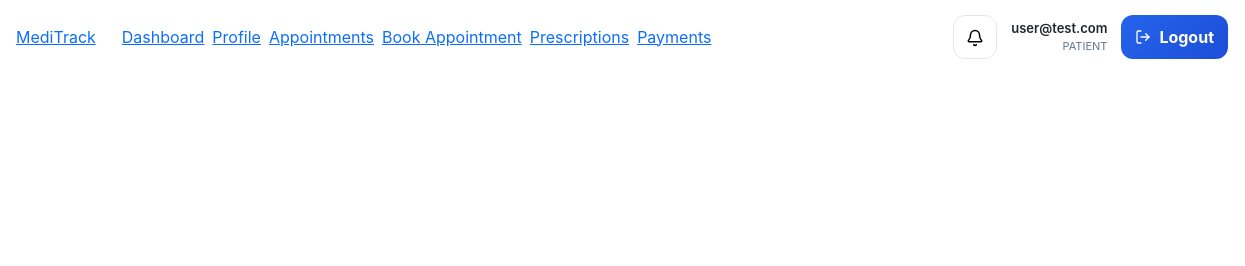
Navbar.jsx › should open notification dropdown
Click the 1st button at (975, 36), box [953,14,997,58]
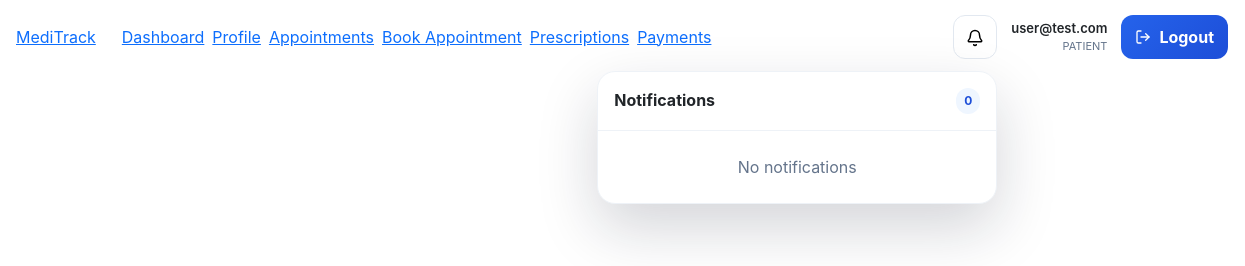
Now the text "Notifications" is shown, box [614,88,715,114]
